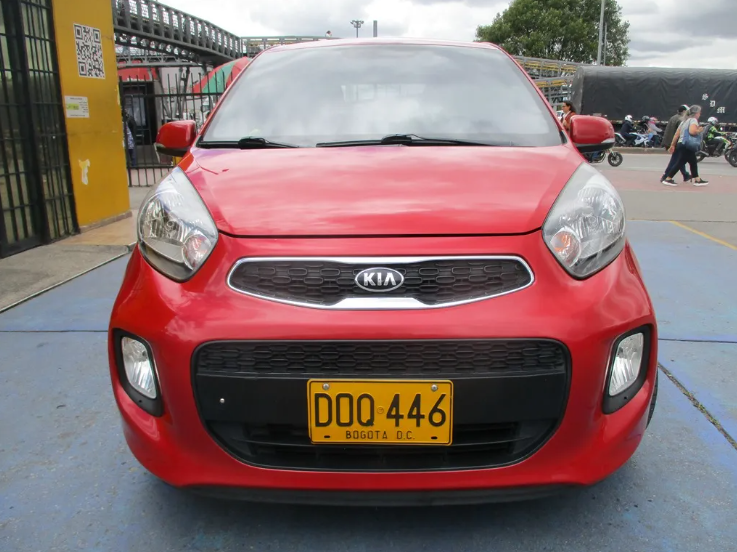placa: (308, 381, 451, 445)
